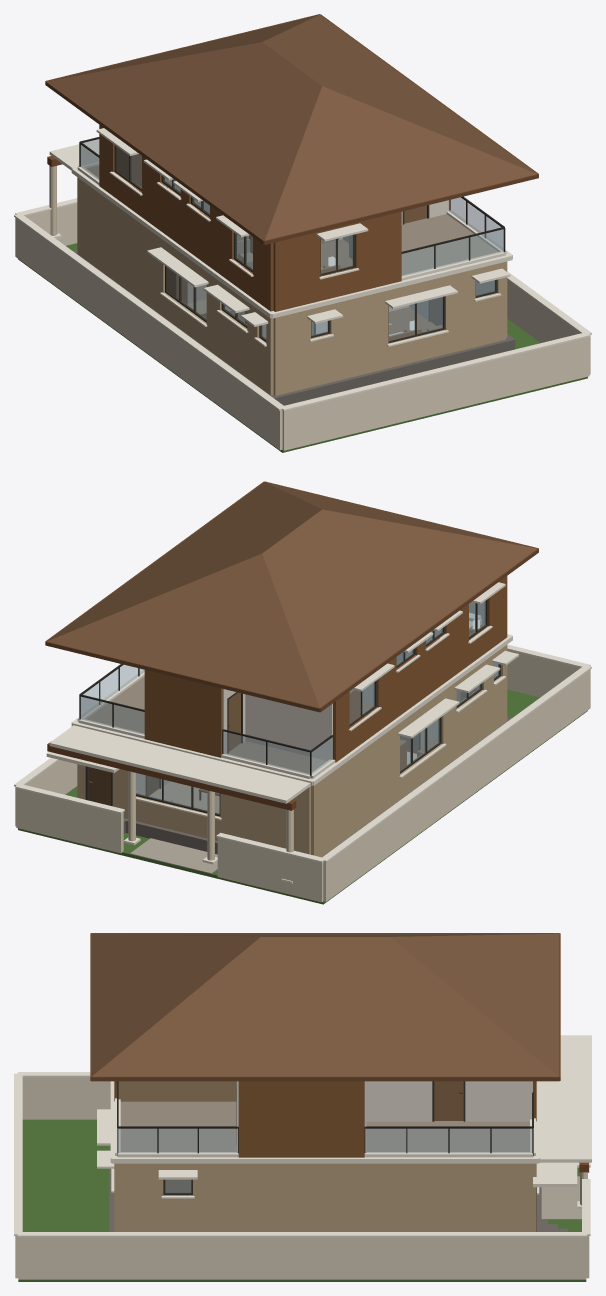
Rendered from house1.glb.
3 views of the same model, one above another, from view 1: azimuth 30°, elevation 25°; view 2: azimuth 150°, elevation 25°; view 3: azimuth 270°, elevation 25° (orthographic). The views are drawn at different scales.
Visible parts, largest first — view 1: roof__roof_tile, level_0__structure__stone_cladding, site__compound_wall, level_1__structure__timber_boards, site__concrete_band, level_1__structure__railing_glass, level_1__floors__floor_outdoor, level_1__structure__concrete_band, roof__pergola_timber, level_0__structure__glass, site__plinth_stone, level_0__structure__concrete_band (+13 smaller); view 2: roof__roof_tile, site__compound_wall, level_0__structure__stone_cladding, level_1__structure__timber_boards, level_0__facade__concrete_band, level_1__structure__railing_glass, site__concrete_band, level_1__structure__paint_circulation, roof__pergola_timber, level_1__floors__floor_outdoor, level_1__structure__concrete_band, level_0__structure__glass (+15 smaller); view 3: roof__roof_tile, site__compound_wall, level_0__structure__stone_cladding, site__lawn, level_1__floors__floor_outdoor, level_1__structure__timber_boards, level_1__structure__railing_glass, level_0__facade__concrete_band, level_1__structure__paint_circulation, site__concrete_band, roof__pergola_timber, level_1__structure__concrete_band (+7 smaller).
Part boxes in pixels (x1,y1,x2,y2): roof__roof_tile: (47, 14, 536, 240); level_0__structure__stone_cladding: (77, 177, 507, 395); site__compound_wall: (15, 204, 590, 450); level_1__structure__timber_boards: (99, 125, 450, 311); site__concrete_band: (14, 198, 591, 411); level_1__structure__railing_glass: (80, 139, 503, 276); level_1__floors__floor_outdoor: (86, 165, 497, 275); level_1__structure__concrete_band: (72, 128, 511, 317); roof__pergola_timber: (45, 14, 538, 244); level_0__structure__glass: (167, 268, 495, 340); site__plinth_stone: (73, 250, 515, 405); level_0__structure__concrete_band: (147, 247, 510, 326); roof__roof_tile: (47, 482, 536, 707); site__compound_wall: (15, 650, 590, 902); level_0__structure__stone_cladding: (77, 645, 507, 857); level_1__structure__timber_boards: (144, 576, 507, 762); level_0__facade__concrete_band: (46, 725, 310, 883); level_1__structure__railing_glass: (80, 665, 332, 774); site__concrete_band: (14, 644, 591, 862); level_1__structure__paint_circulation: (222, 689, 332, 760); roof__pergola_timber: (45, 481, 538, 712); level_1__floors__floor_outdoor: (86, 676, 326, 773); level_1__structure__concrete_band: (72, 582, 508, 785); level_0__structure__glass: (136, 663, 498, 813); roof__roof_tile: (91, 933, 558, 1076); site__compound_wall: (15, 1077, 589, 1279); level_0__structure__stone_cladding: (114, 1163, 536, 1231); site__lawn: (18, 1119, 586, 1281); level_1__floors__floor_outdoor: (120, 1101, 529, 1151); level_1__structure__timber_boards: (114, 1081, 536, 1157); level_1__structure__railing_glass: (118, 1128, 532, 1152); level_0__facade__concrete_band: (533, 1035, 591, 1208); level_1__structure__paint_circulation: (236, 1081, 532, 1152); site__concrete_band: (14, 1072, 590, 1237); roof__pergola_timber: (90, 933, 560, 1081); level_1__structure__concrete_band: (111, 1081, 539, 1162).
Bounding box in the file's own units: 12.28 × 9.27 × 18.32.
